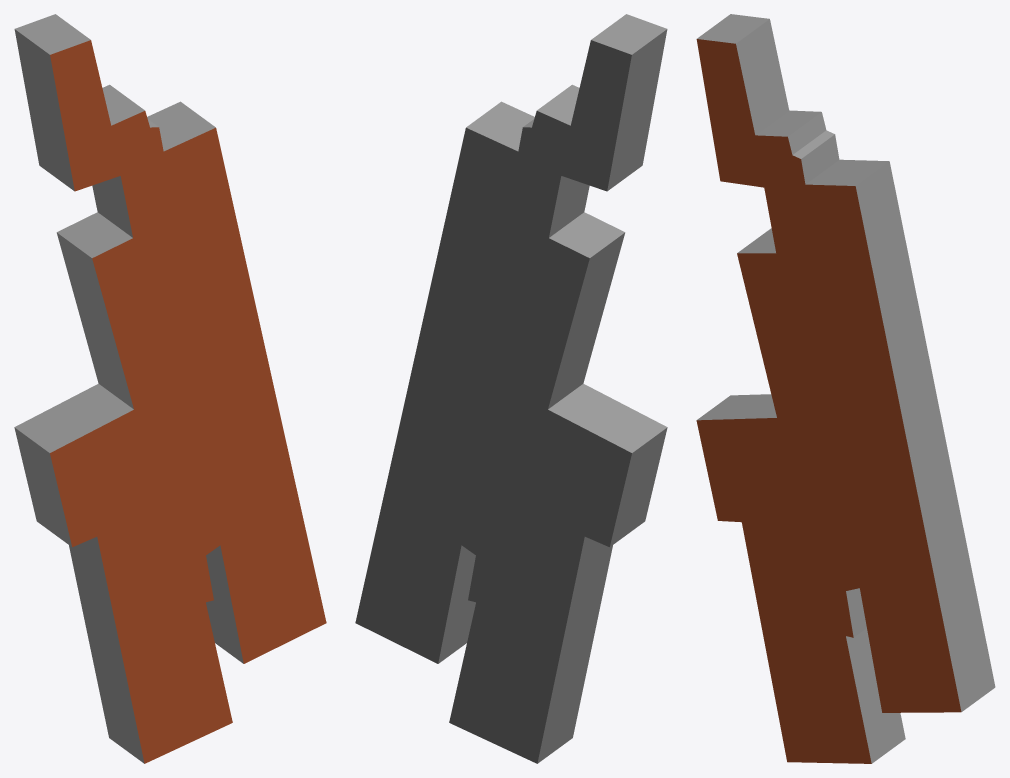
File: construction_6902_assumed_A_Casa_h6m.obj
3 views of the same model, side by side, from view 1: azimuth 30°, elevation 25°; view 2: azimuth 150°, elevation 25°; view 3: azimuth 330°, elevation 25° (orthographic). The views are drawn at different scales.
Visible parts, largest first — view 1: construction_6902_assumed_A_Casa; view 2: construction_6902_assumed_A_Casa; view 3: construction_6902_assumed_A_Casa.
Boxes of the visible parts, box(x1,y1,x2,y2) form: construction_6902_assumed_A_Casa: box(14, 14, 326, 763); construction_6902_assumed_A_Casa: box(355, 14, 667, 763); construction_6902_assumed_A_Casa: box(696, 14, 995, 763).
Bounding box in the file's own units: 26.99 × 68.68 × 6.
